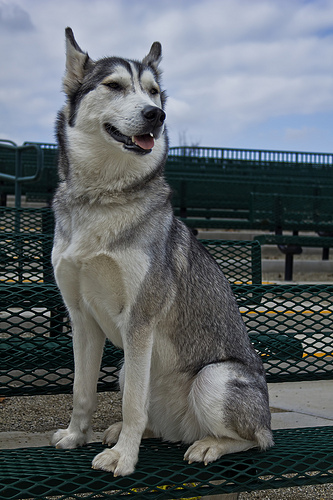dog: (48, 26, 275, 478)
